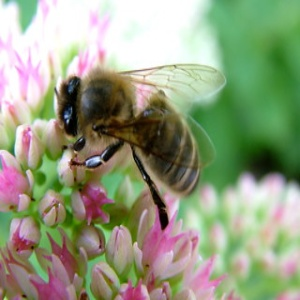bee: (53, 59, 231, 232)
